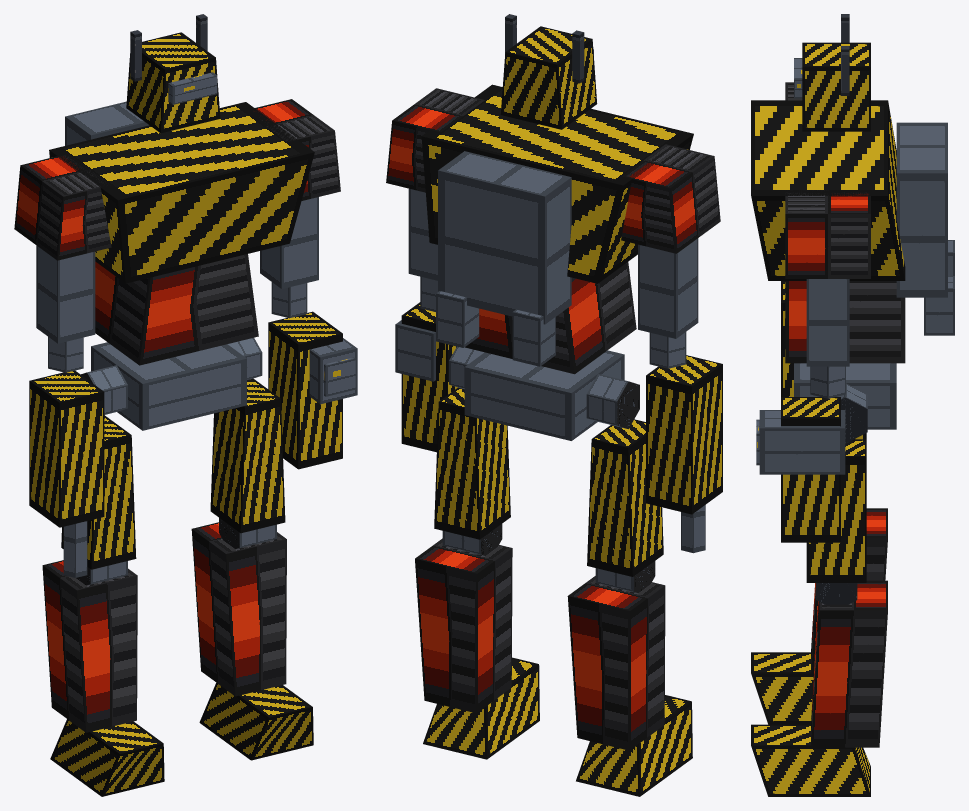
The model's file is mech_prototype.obj.
3 renders of one model, left to right at view 1: azimuth 30°, elevation 25°; view 2: azimuth 150°, elevation 25°; view 3: azimuth 270°, elevation 25°, orthographic. The views are drawn at different scales.
Visible parts, largest first — view 1: torso_upper, calf_r, calf_l, torso_lower, forearm_l, thigh_r, hips, forearm_r, shoulder_pad_l, foot_r, foot_l, head_main (+15 smaller); view 2: backpack, torso_upper, calf_r, calf_l, forearm_l, thigh_l, hips, thigh_r, shoulder_pad_l, torso_lower, head_main, foot_l (+15 smaller); view 3: torso_upper, calf_r, backpack, shoulder_pad_r, foot_r, torso_lower, forearm_r, head_main, thigh_r, rocket_pod, foot_l, upper_arm_r (+8 smaller).
Boxes of the visible parts, x1,y1,x2,y2 form: torso_upper: [49, 102, 314, 283]; calf_r: [191, 522, 286, 696]; calf_l: [42, 560, 137, 732]; torso_lower: [95, 254, 258, 365]; forearm_l: [29, 370, 104, 527]; thigh_r: [210, 378, 285, 533]; hips: [91, 342, 246, 430]; forearm_r: [268, 311, 342, 469]; shoulder_pad_l: [14, 154, 111, 260]; foot_r: [199, 683, 313, 760]; foot_l: [50, 719, 164, 796]; head_main: [126, 32, 220, 133]; backpack: [438, 151, 571, 324]; torso_upper: [421, 84, 693, 283]; calf_r: [415, 538, 512, 713]; calf_l: [567, 576, 665, 750]; forearm_l: [646, 355, 722, 514]; thigh_l: [587, 419, 663, 576]; hips: [464, 350, 624, 440]; thigh_r: [434, 387, 510, 539]; shoulder_pad_l: [621, 144, 720, 253]; torso_lower: [465, 262, 636, 374]; head_main: [500, 26, 597, 129]; foot_l: [576, 695, 692, 796]; torso_upper: [751, 100, 905, 280]; calf_r: [811, 580, 887, 747]; backpack: [896, 122, 947, 297]; shoulder_pad_r: [785, 190, 870, 278]; foot_r: [751, 724, 870, 796]; torso_lower: [785, 281, 905, 363]; forearm_r: [781, 397, 840, 542]; head_main: [802, 42, 870, 131]; thigh_r: [806, 439, 866, 582]; rocket_pod: [759, 410, 845, 474]; foot_l: [751, 652, 813, 724]; upper_arm_r: [806, 279, 849, 366].
Bounding box in the file's own units: 1.93 × 4.6 × 1.19.
31 materials, 31 textured.
